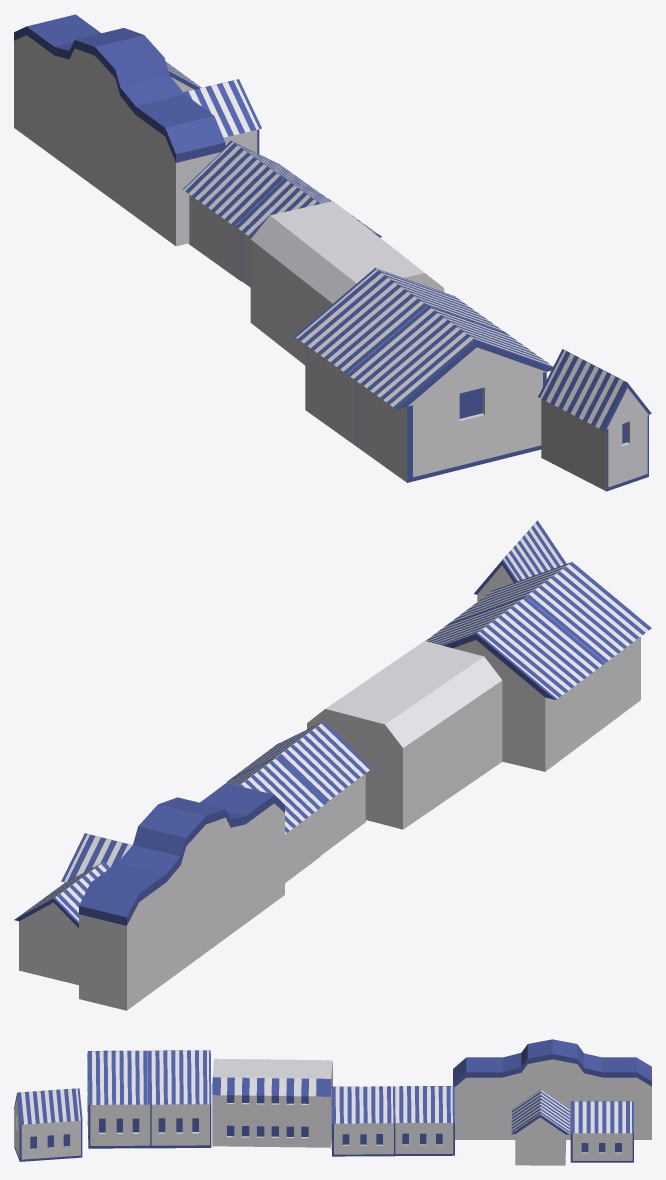
File: Village_far.gltf
The picture shows the model from 3 angles, top to bottom: view 1: azimuth 30°, elevation 25°; view 2: azimuth 150°, elevation 25°; view 3: azimuth 270°, elevation 25°; orthographic projection. The views are drawn at different scales.
Parts seen in each view (by area): view 1: Cube.036, Cube.033, Cube.035, Cube.032, Cube.034, Cube.031, Cube.039, Cube.030; view 2: Cube.036, Cube.035, Cube.032, Cube.033, Cube.030, Cube.038, Cube.031, Cube.034, Cube.039; view 3: Cube.036, Cube.035, Cube.033, Cube.032, Cube.034, Cube.030, Cube.031, Cube.038, Cube.039.
Part boxes in pixels (left/top/right/bottom): Cube.036: left=14, top=14, right=225, bottom=246; Cube.033: left=347, top=305, right=552, bottom=482; Cube.035: left=250, top=201, right=444, bottom=365; Cube.032: left=294, top=268, right=506, bottom=447; Cube.034: left=538, top=349, right=651, bottom=491; Cube.031: left=183, top=140, right=325, bottom=281; Cube.039: left=183, top=79, right=261, bottom=153; Cube.030: left=235, top=175, right=381, bottom=287; Cube.036: left=79, top=783, right=284, bottom=1010; Cube.035: left=307, top=641, right=502, bottom=829; Cube.032: left=426, top=596, right=604, bottom=771; Cube.033: left=447, top=562, right=651, bottom=734; Cube.030: left=227, top=721, right=371, bottom=855; Cube.038: left=14, top=861, right=109, bottom=984; Cube.031: left=214, top=756, right=326, bottom=882; Cube.034: left=474, top=520, right=566, bottom=601; Cube.039: left=61, top=833, right=132, bottom=882; Cube.036: left=453, top=1039, right=651, bottom=1139; Cube.035: left=212, top=1058, right=332, bottom=1147; Cube.033: left=87, top=1050, right=151, bottom=1148; Cube.032: left=147, top=1050, right=211, bottom=1148; Cube.034: left=14, top=1088, right=82, bottom=1161; Cube.030: left=331, top=1086, right=395, bottom=1156; Cube.031: left=395, top=1086, right=454, bottom=1155; Cube.038: left=570, top=1101, right=633, bottom=1162; Cube.039: left=511, top=1089, right=569, bottom=1165.
Size of the model in its own units: 4.7 by 2.98 by 19.76.
